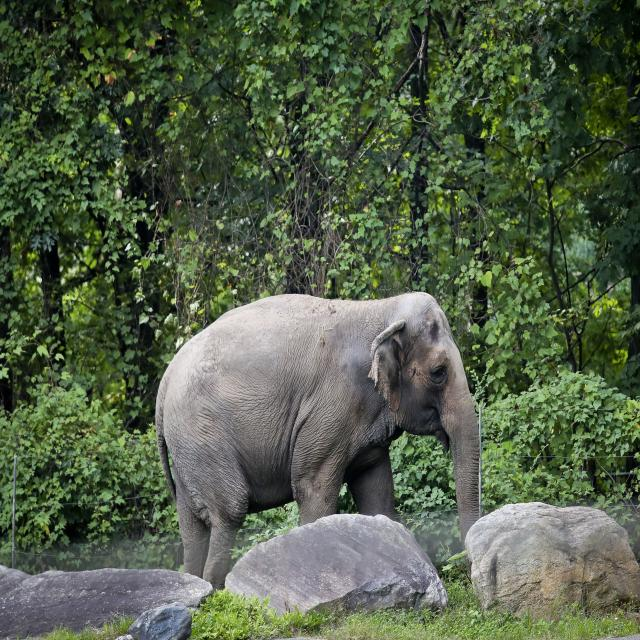Elephant: (140, 277, 494, 588)
